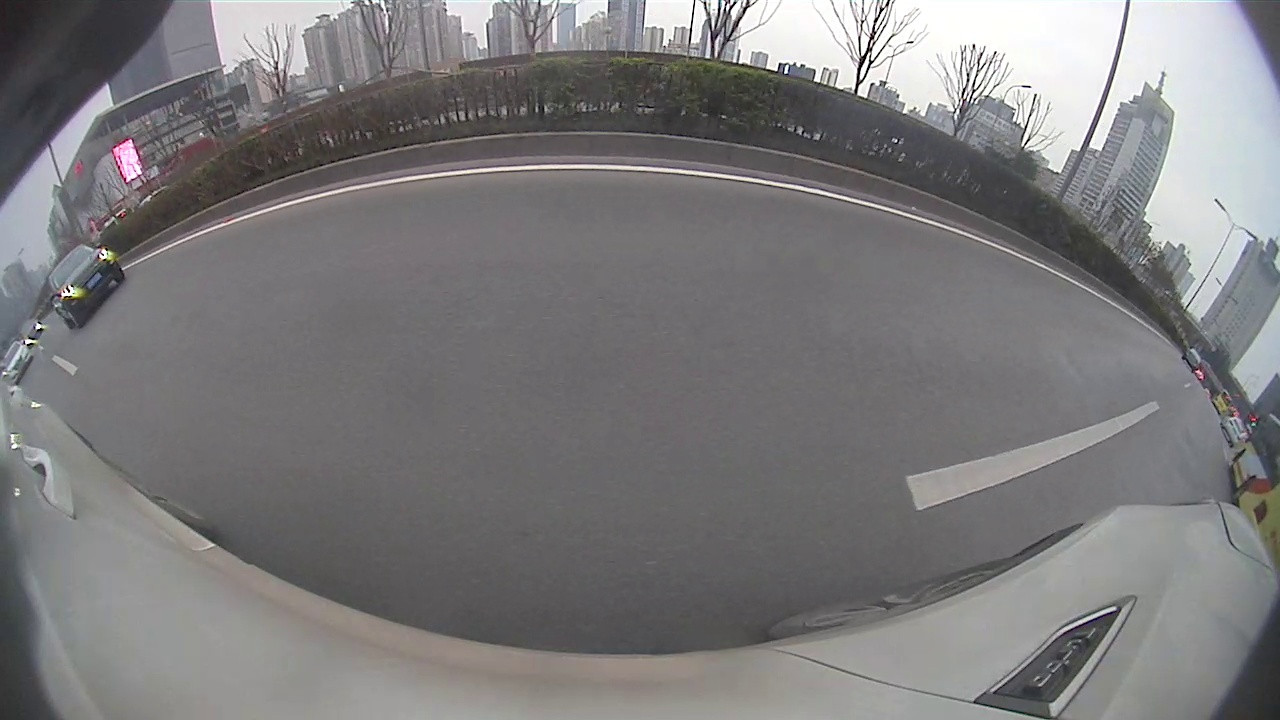bus: (1228, 410, 1279, 557)
car: (45, 246, 123, 327)
